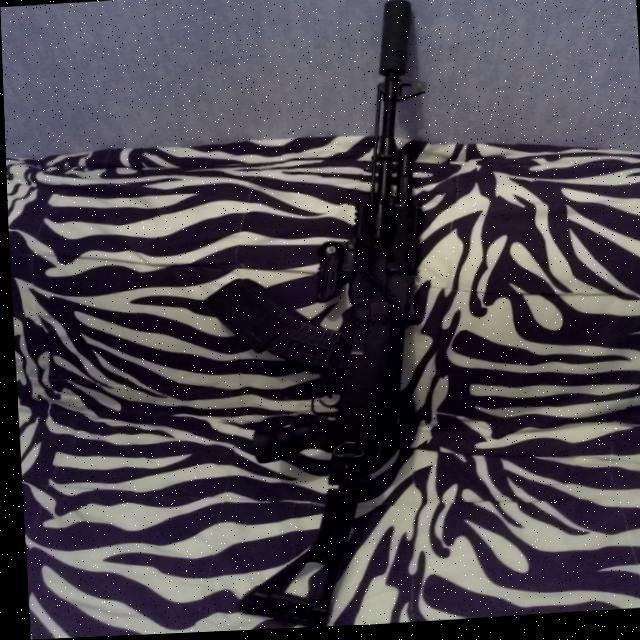firearm: (190, 0, 451, 633)
